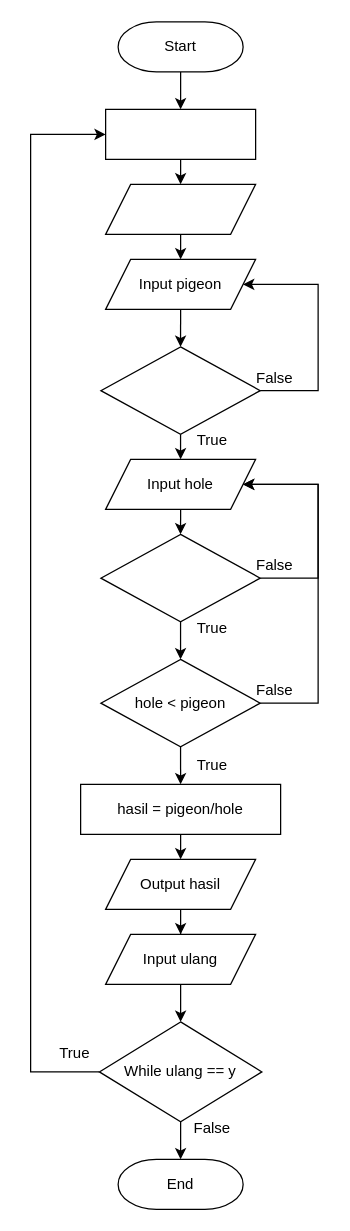
Some shapes in this 350 by 1231 pixel diagram are drawn without their labels. Each missing label, with the centre of its shape:
"Do" belongs at point 180,133.
"hole = bilangan asli" belongs at point 180,577.
"Input soal" belongs at point 180,208.
"pigeon = bilangan asli" belongs at point 180,390.
